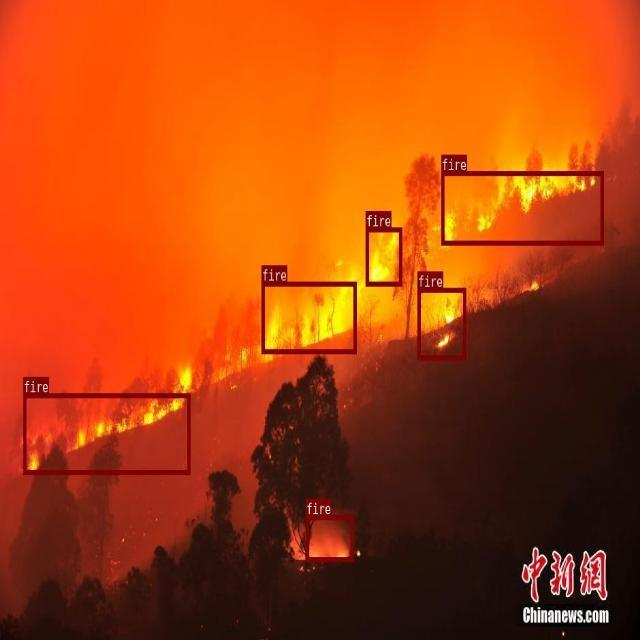fire: (23, 393, 190, 474), (441, 171, 603, 244), (261, 281, 356, 353), (417, 287, 465, 359), (305, 515, 353, 561), (365, 227, 402, 286)
